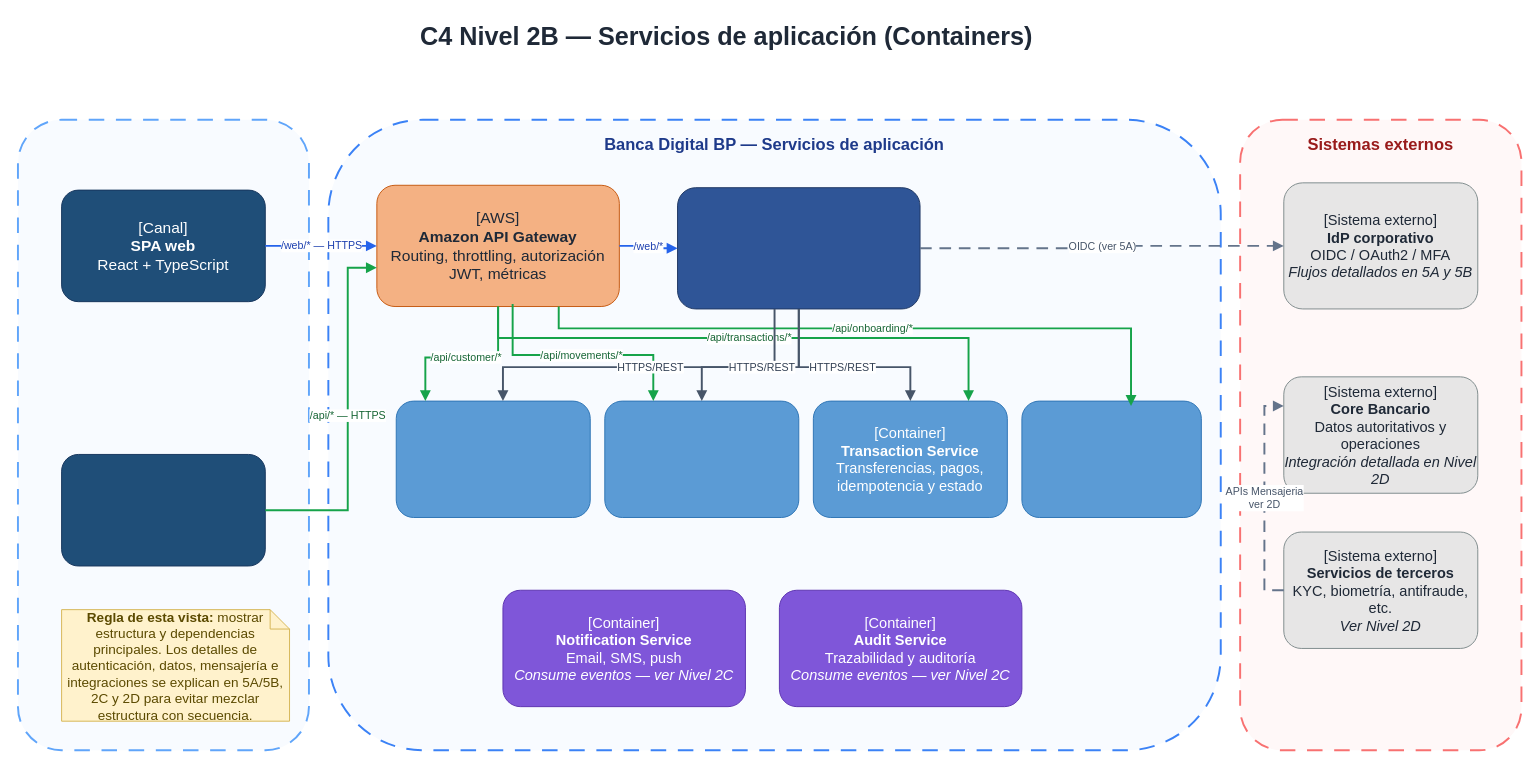
This 1538x767 diagram has some shape labels left out. Here are the shapes that lost their labels. From the top down, the box of each, then its label:
(677, 187, 920, 309): [Container] Web BFF Sesión segura, tokens server-side, agregación para SPA
(16, 118, 309, 751): Canales / entrada (referencia del Nivel 2A)
(395, 400, 590, 517): [Container] Customer Query Service Perfil, productos y datos de cliente
(604, 400, 799, 517): [Container] Movement Query Service Movimientos, historial y filtros
(1021, 400, 1201, 517): [Container] Onboarding / KYC Service Alta digital y validación de identidad
(61, 453, 265, 566): [Canal] App móvil Flutter / iOS / Android
